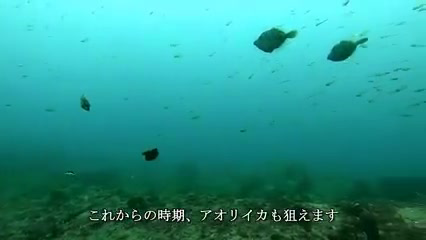kawahagi: (327, 32, 371, 65), (249, 25, 297, 55)
